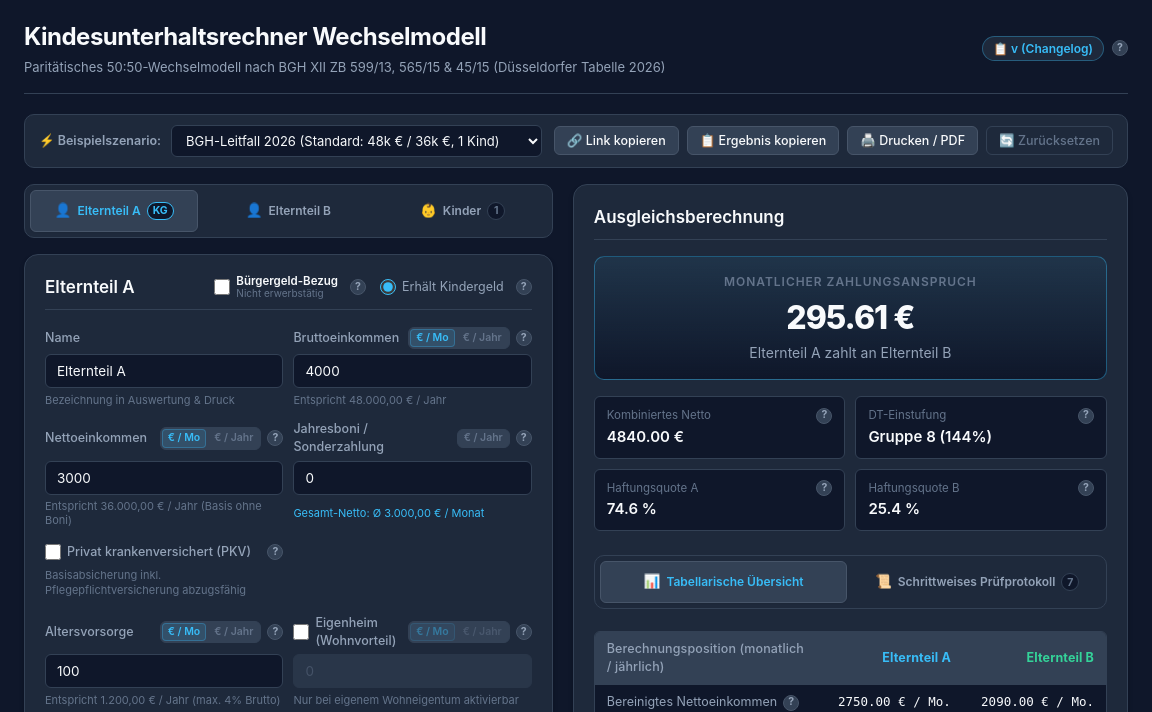
Test: Perioden-Umschaltung & Eingabekomponenten (Monat / Jahr) › Persistenz der Period-Umschalter bei Tab-Wechseln (App Integration) › behält den 'yearly' Zustand der Input-Felder bei Wechsel zwischen Eltern- und Kinder-Tabs bei
Click the button with aria-label "jährliche eingabe" at (482, 338), box [457,329,508,347]
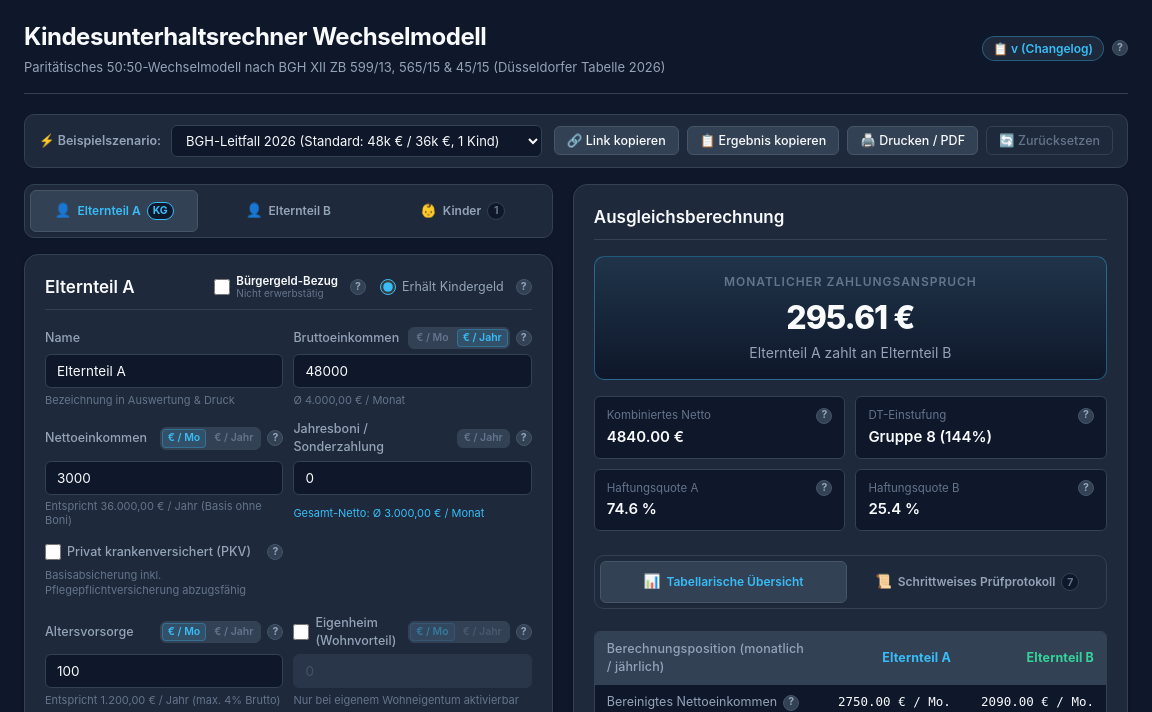
Check: the number field labelled "Bruttoeinkommen" holds "48000", box [293,354,532,388]
# Zu Tab 'Elternteil B' wechseln
Click the button "👤 Elternteil B" at (288, 211), box [204,190,373,232]
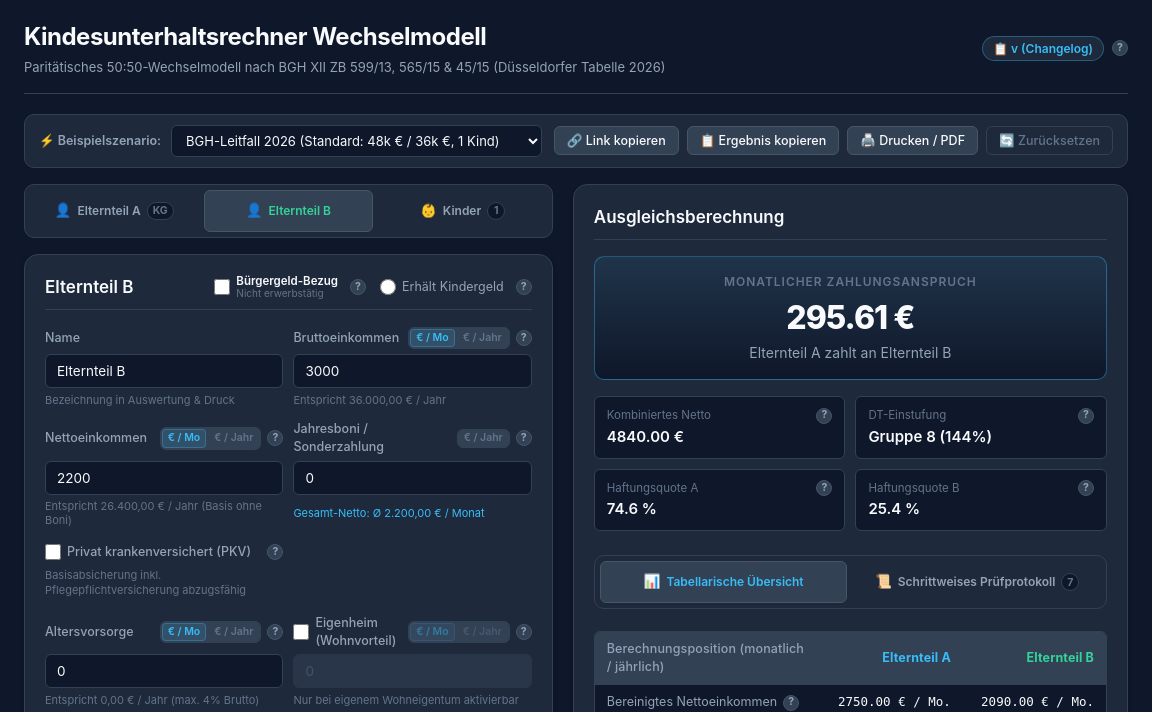
# Zu Tab 'Kinder' wechseln
Click the button "👶 Kinder 1" at (463, 211), box [378,190,547,232]
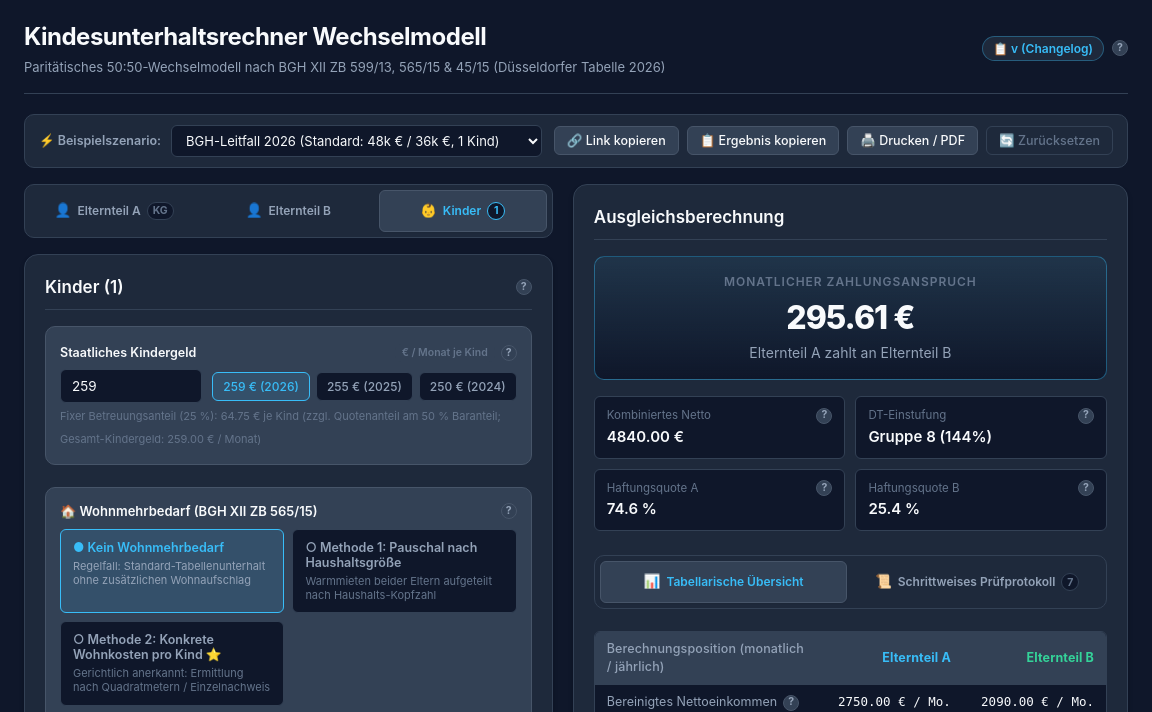
# Zurück zu Tab 'Elternteil A' wechseln
Click the button "👤 Elternteil A KG" at (114, 211), box [30,190,198,232]
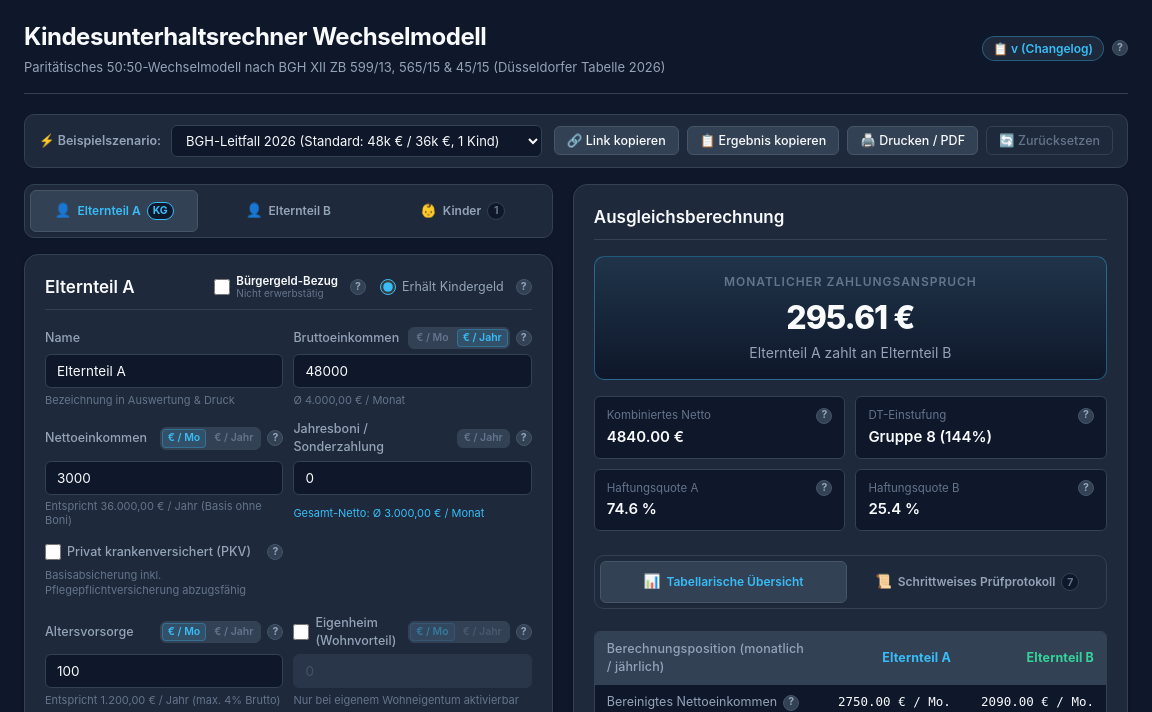
Check: the number field labelled "Bruttoeinkommen" holds "48000", box [293,354,532,388]
